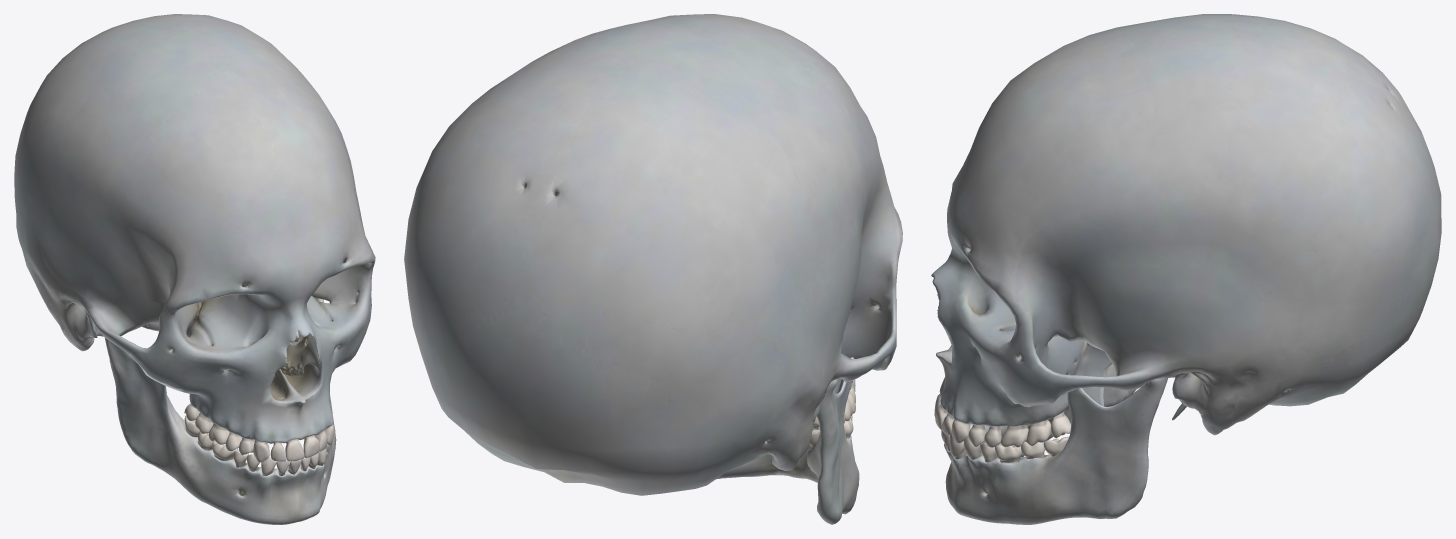
The model's file is 头骨_20260324191106_opt.glb.
The picture shows the model from 3 angles, left to right: view 1: azimuth 30°, elevation 25°; view 2: azimuth 150°, elevation 25°; view 3: azimuth 270°, elevation 25°; orthographic projection. The views are drawn at different scales.
Visible parts, largest first — view 1: UnifiedSkull, Mandible, AllTeeth_Decim; view 2: UnifiedSkull, Mandible, AllTeeth_Decim; view 3: UnifiedSkull, Mandible, AllTeeth_Decim.
Part boxes in pixels (x1,y1,x2,y2): UnifiedSkull: [14, 14, 375, 443]; Mandible: [104, 298, 336, 524]; AllTeeth_Decim: [184, 403, 334, 475]; UnifiedSkull: [404, 14, 902, 495]; Mandible: [716, 357, 859, 524]; AllTeeth_Decim: [809, 379, 855, 447]; UnifiedSkull: [931, 14, 1441, 435]; Mandible: [944, 364, 1167, 524]; AllTeeth_Decim: [934, 394, 1070, 462].
Size of the model in its own units: 0.2874 by 0.4 by 0.3936.
Materials: 3 (3 with a texture image).
